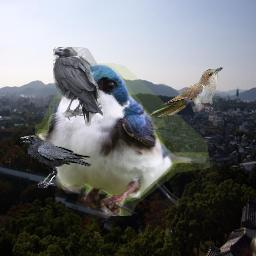Crow: (53, 47, 103, 126), (20, 135, 92, 188)
Cuckoo: (149, 67, 223, 117)
Swallow: (35, 63, 210, 216)
